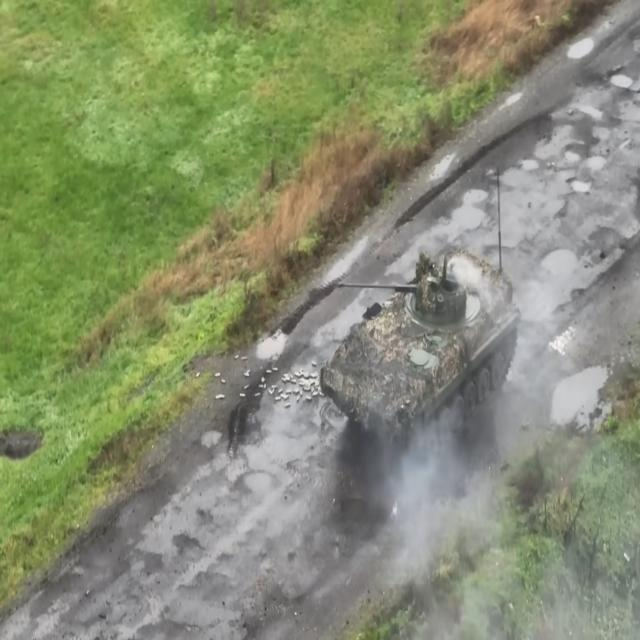AIFV: (319, 244, 523, 480)
